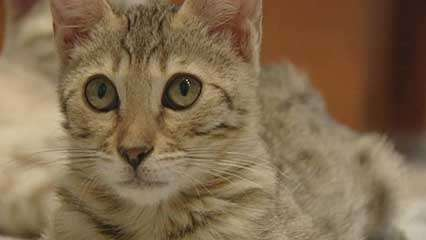cat: (42, 2, 313, 238)
